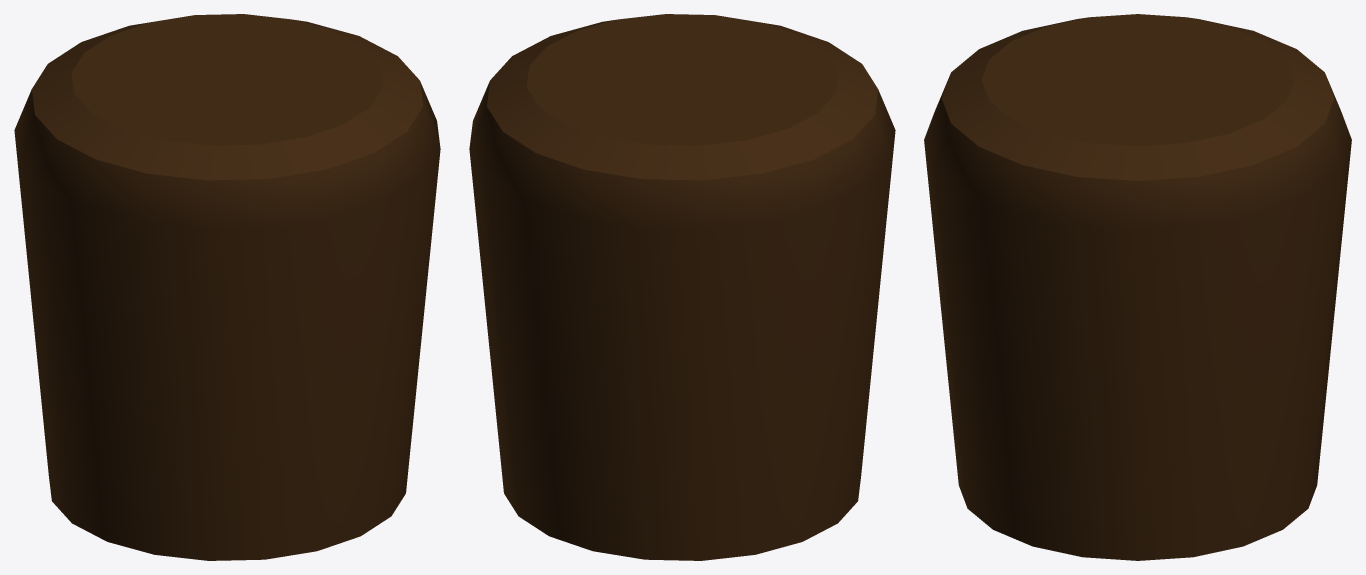
The model's file is SM_Carriage_Cork_Unity.fbx.
3 renders of one model, left to right at view 1: azimuth 30°, elevation 25°; view 2: azimuth 150°, elevation 25°; view 3: azimuth 270°, elevation 25°, orthographic.
Visible parts, largest first — view 1: SM_Carriage_Flue_low; view 2: SM_Carriage_Flue_low; view 3: SM_Carriage_Flue_low.
Boxes of the visible parts, box(x1,y1,x2,y2) form: SM_Carriage_Flue_low: box(14, 14, 440, 560); SM_Carriage_Flue_low: box(469, 14, 895, 560); SM_Carriage_Flue_low: box(924, 14, 1351, 560).
Bounding box in the file's own units: 65.05 × 67.95 × 65.05.
